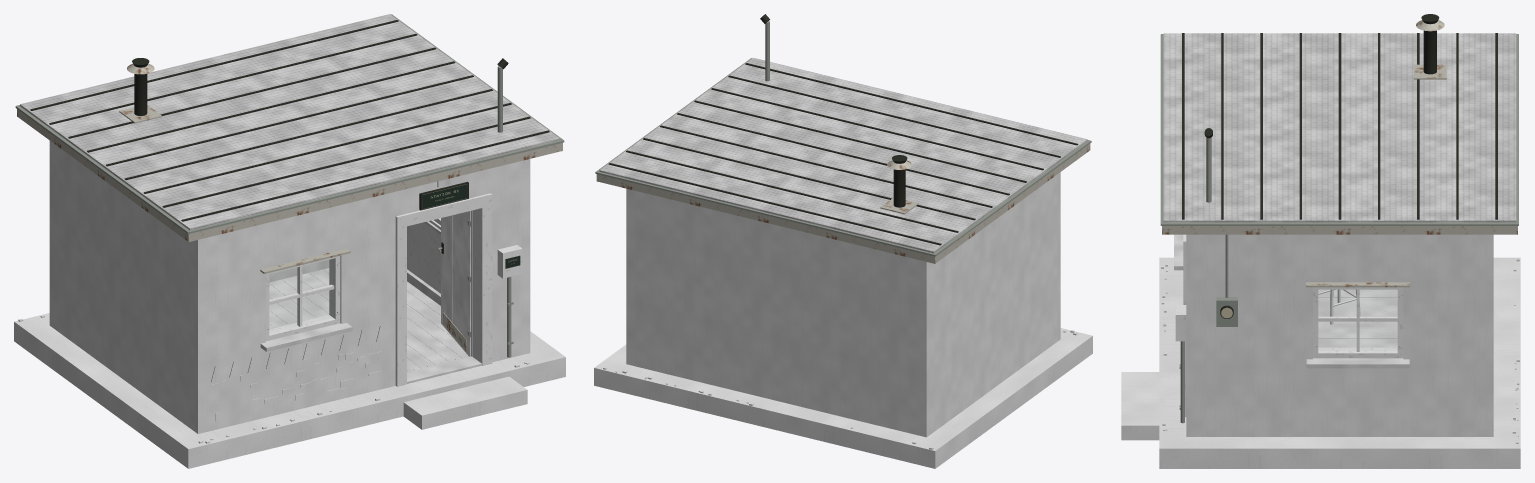
The model's file is Station01_Field_Hut.glb.
3 views of the same model, side by side, from view 1: azimuth 30°, elevation 25°; view 2: azimuth 150°, elevation 25°; view 3: azimuth 270°, elevation 25° (orthographic). The views are drawn at different scales.
Parts seen in each view (by area): view 1: SM_FieldStation_Hut_Shell, SM_FieldStation_Hut_Interior, SM_FieldStation_Hut_Door; view 2: SM_FieldStation_Hut_Shell; view 3: SM_FieldStation_Hut_Shell, SM_FieldStation_Hut_Interior.
Part boxes in pixels (x1,y1,x2,y2): SM_FieldStation_Hut_Shell: (14,14,565,468); SM_FieldStation_Hut_Interior: (269,210,472,371); SM_FieldStation_Hut_Door: (437,211,471,356); SM_FieldStation_Hut_Shell: (594,14,1092,468); SM_FieldStation_Hut_Shell: (1121,14,1520,468); SM_FieldStation_Hut_Interior: (1318,289,1397,347).
Bounding box in the file's own units: 5 × 3.92 × 4.42.
25 materials, 19 textured.
